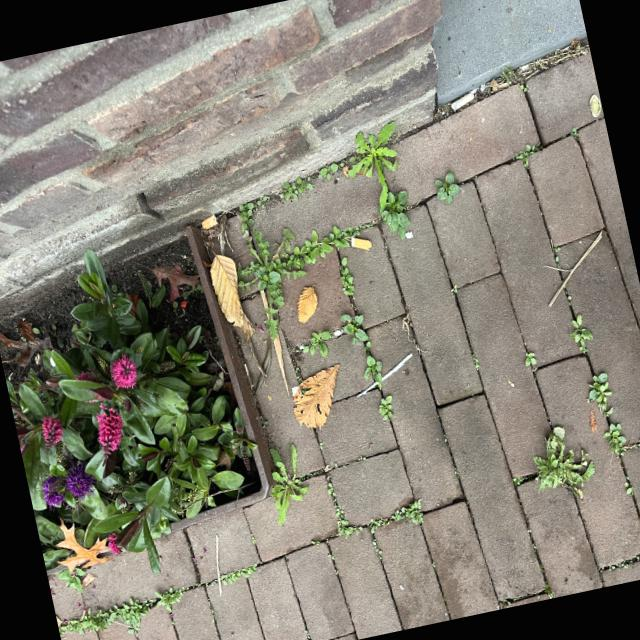leaves: (237, 298, 315, 351), (175, 396, 227, 456), (256, 407, 294, 448)
plants: (41, 28, 319, 339)
weed: (0, 63, 57, 180)
weedling: (217, 234, 490, 392)
